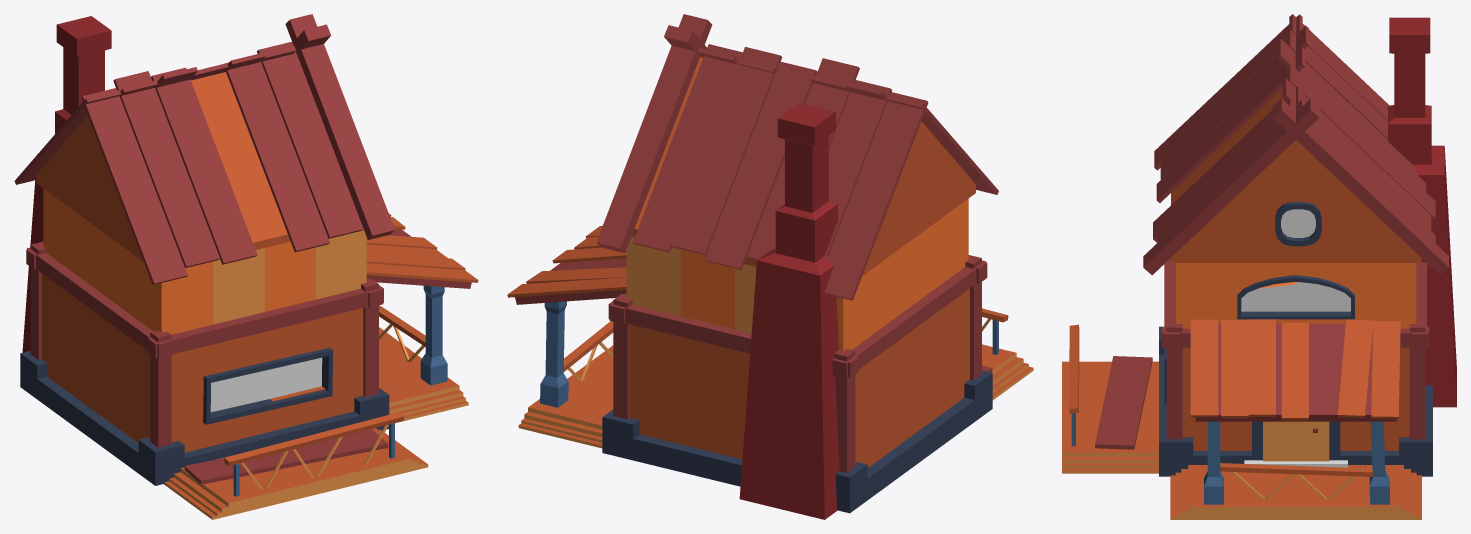
Rendered from House3.fbx.
3 views of the same model, side by side, from view 1: azimuth 30°, elevation 25°; view 2: azimuth 150°, elevation 25°; view 3: azimuth 270°, elevation 25° (orthographic). The views are drawn at different scales.
Parts seen in each view (by area): view 1: Cube.005, Cube.038, Cube.002, Cube.029, Cube.001, Cube.012, Cube.018, Cube.014, Cube.016, Cube.039, Cube.041, Cube.013 (+3 smaller); view 2: Cube.038, Cube.005, Cube.002, Cube.001, Cube.012, Cube.018, Cube.016, Cube.013, Cube.014, Cube.046, Cube.029, Cube.020; view 3: Cube.038, Cube.005, Cube.018, Cube.016, Cube.029, Cube.001, Cube.002, Cube.039, Cube.012, Cube, Cube.036, Cube.015 (+9 smaller).
Boxes of the visible parts, x1,y1,x2,y2 form: Cube.005: (14,14,394,284); Cube.038: (22,16,366,352); Cube.002: (42,273,363,452); Cube.029: (164,412,428,519); Cube.001: (20,351,389,485); Cube.012: (30,241,378,447); Cube.018: (366,213,478,288); Cube.014: (26,248,383,358); Cube.016: (379,327,468,423); Cube.039: (184,429,388,484); Cube.041: (210,357,322,412); Cube.013: (27,247,383,358); Cube.038: (626,57,975,519); Cube.005: (596,14,998,300); Cube.002: (630,288,969,467); Cube.001: (602,370,992,513); Cube.012: (613,255,981,472); Cube.018: (507,225,626,304); Cube.016: (518,345,613,448); Cube.013: (609,260,986,378); Cube.014: (608,261,987,377); Cube.046: (540,301,568,407); Cube.029: (982,308,1033,400); Cube.020: (563,321,613,371); Cube.038: (1171,17,1456,407); Cube.005: (1143,14,1448,275); Cube.018: (1190,319,1400,421); Cube.016: (1170,465,1421,519); Cube.029: (1062,324,1158,473); Cube.001: (1159,326,1432,476); Cube.002: (1182,347,1409,450); Cube.039: (1095,356,1152,449); Cube.012: (1166,321,1425,439); Cube: (1263,421,1329,461); Cube.036: (1241,282,1350,311); Cube.015: (1237,275,1354,319).
Bounding box in the file's own units: 2913 × 2913 × 2839.
